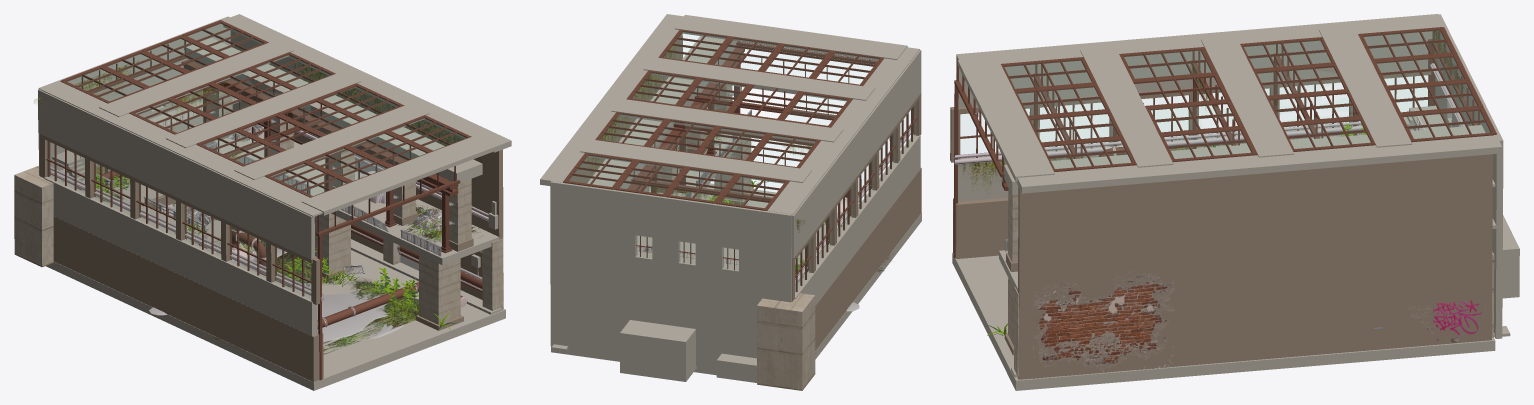
Rendered from factory.glb.
3 renders of one model, left to right at view 1: azimuth 30°, elevation 25°; view 2: azimuth 150°, elevation 25°; view 3: azimuth 270°, elevation 25°, orthographic. The views are drawn at different scales.
Visible parts, largest first — view 1: pCube8_lambert1_0, pCube2_bricks_0, pCube270_grass_0, pPlane62_moss_0, pCube258_grunge_0; view 2: pCube8_lambert1_0, pCube2_bricks_0, pPlane62_moss_0; view 3: pCube8_lambert1_0, pCube258_grunge_0, pCube155_glass_0, pCube2_bricks_0, pPlane62_moss_0.
Boxes of the visible parts, x1=… form: pCube8_lambert1_0: x1=38, y1=14, x2=511, y2=390; pCube2_bricks_0: x1=14, y1=87, x2=503, y2=324; pCube270_grass_0: x1=96, y1=187, x2=482, y2=354; pPlane62_moss_0: x1=34, y1=59, x2=489, y2=179; pCube258_grunge_0: x1=118, y1=124, x2=441, y2=231; pCube8_lambert1_0: x1=540, y1=14, x2=921, y2=382; pCube2_bricks_0: x1=643, y1=84, x2=815, y2=390; pPlane62_moss_0: x1=588, y1=46, x2=811, y2=232; pCube8_lambert1_0: x1=950, y1=14, x2=1519, y2=390; pCube258_grunge_0: x1=1033, y1=273, x2=1484, y2=378; pCube155_glass_0: x1=1026, y1=75, x2=1451, y2=151; pCube2_bricks_0: x1=1008, y1=128, x2=1494, y2=376; pPlane62_moss_0: x1=962, y1=31, x2=1463, y2=186.
Size of the model in its own units: 10.17 by 5.42 by 13.19.
6 materials, 6 textured.
